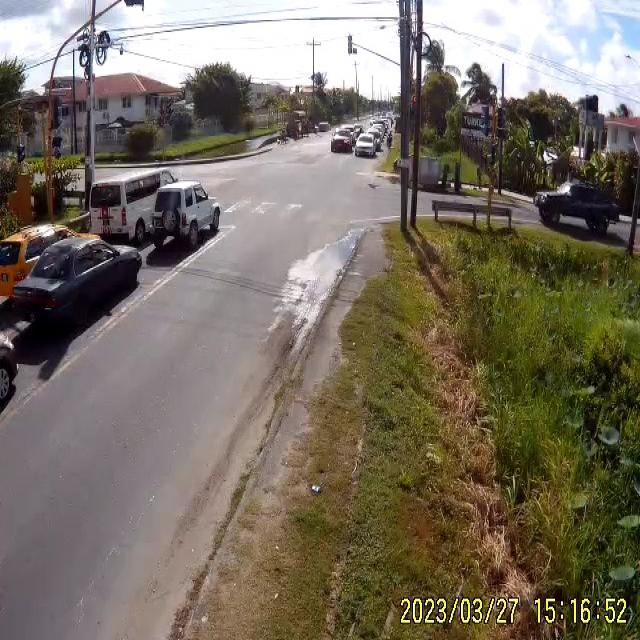car: (5, 234, 142, 338), (0, 222, 79, 302), (89, 167, 172, 242), (148, 181, 223, 245), (537, 183, 621, 236), (355, 133, 378, 156), (331, 132, 354, 155)
